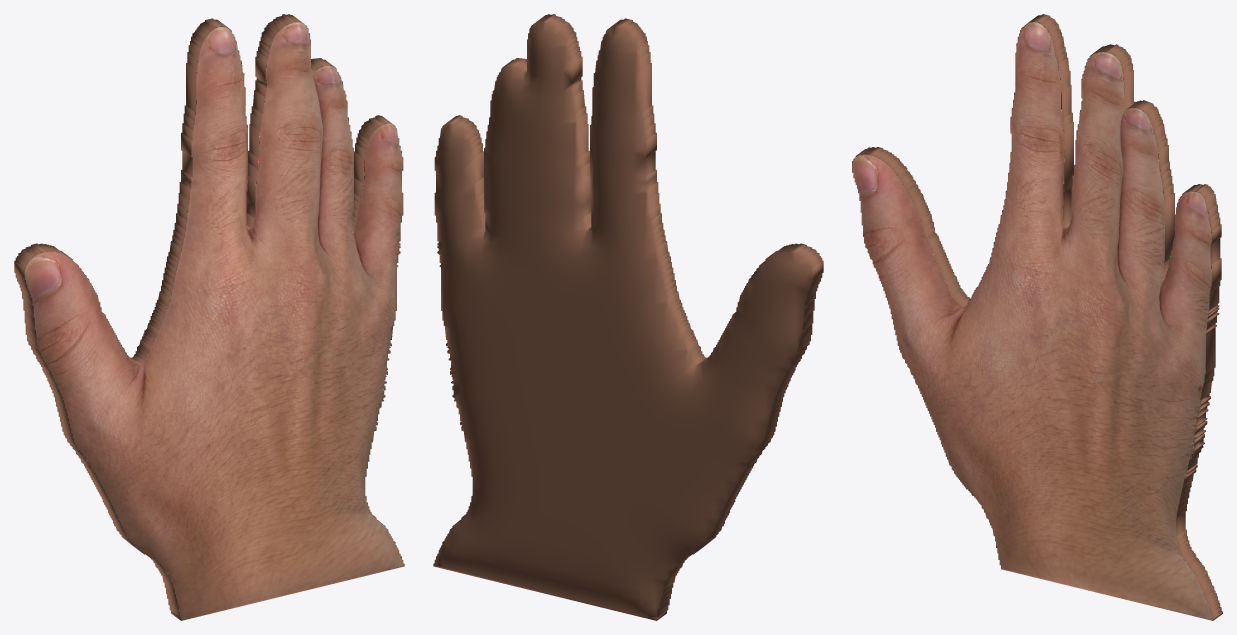
Rendered from fps-right-photo.glb.
3 views of the same model, side by side, from view 1: azimuth 30°, elevation 25°; view 2: azimuth 150°, elevation 25°; view 3: azimuth 330°, elevation 25° (orthographic). The views are drawn at different scales.
Visible parts, largest first — view 1: RightHand_Skin; view 2: RightHand_Skin; view 3: RightHand_Skin.
Boxes of the visible parts, x1=… form: RightHand_Skin: x1=14, y1=14, x2=404, y2=620; RightHand_Skin: x1=433, y1=14, x2=823, y2=620; RightHand_Skin: x1=852, y1=14, x2=1222, y2=620.
Bounding box in the file's own units: 0.1497 × 0.2203 × 0.017.
Materials: 2 (1 with a texture image).
